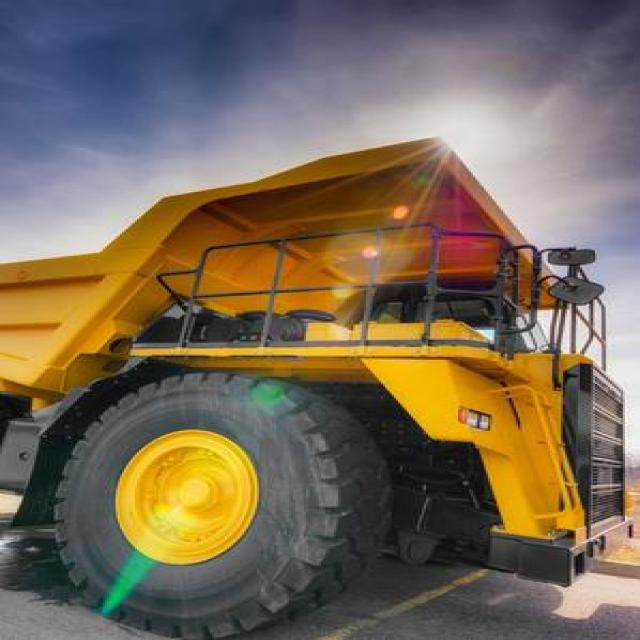Camion volquete: (0, 131, 638, 637)
